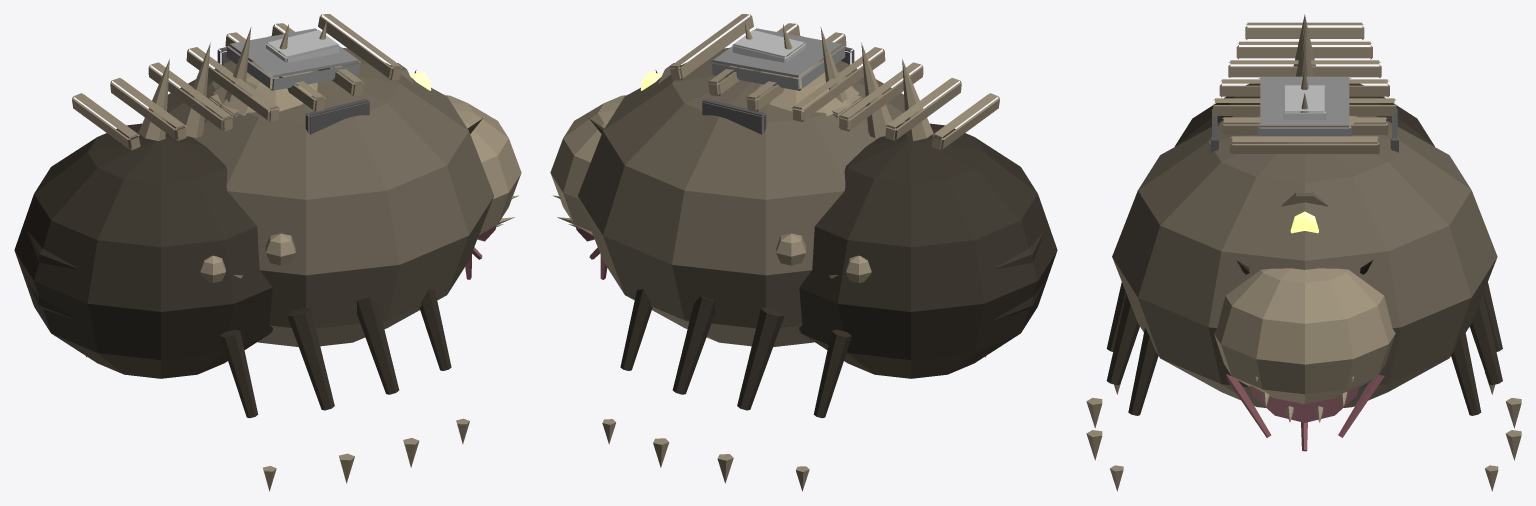
Rendered from bl_hive.glb.
The picture shows the model from 3 angles, left to right: view 1: azimuth 30°, elevation 25°; view 2: azimuth 150°, elevation 25°; view 3: azimuth 270°, elevation 25°; orthographic projection. The views are drawn at different scales.
Visible parts, largest first — view 1: body, leg_3_b, leg_1_a, leg_5_a, turret, leg_7_b; view 2: body, leg_2_a, leg_0_b, leg_4_b, turret, leg_6_a; view 3: body, leg_5_a, leg_4_b, leg_7_b, leg_6_a, turret, leg_3_b, leg_2_a.
Boxes of the visible parts, x1,y1,x2,y2 form: body: (14, 14, 521, 378); leg_3_b: (265, 233, 354, 483); leg_1_a: (200, 255, 276, 491); leg_5_a: (356, 296, 419, 467); turret: (209, 61, 431, 118); leg_7_b: (419, 289, 469, 444); body: (550, 14, 1057, 378); leg_2_a: (717, 233, 806, 483); leg_0_b: (795, 255, 871, 491); leg_4_b: (653, 296, 715, 467); turret: (640, 61, 862, 118); leg_6_a: (602, 289, 652, 444); body: (1112, 14, 1497, 451); leg_5_a: (1086, 294, 1139, 460); leg_4_b: (1469, 294, 1521, 460); leg_7_b: (1110, 328, 1158, 491); leg_6_a: (1451, 328, 1498, 491); turret: (1252, 116, 1357, 233); leg_3_b: (1086, 282, 1126, 428); leg_2_a: (1483, 282, 1521, 428).
Size of the model in its own units: 62.88 by 48.24 by 48.77.
